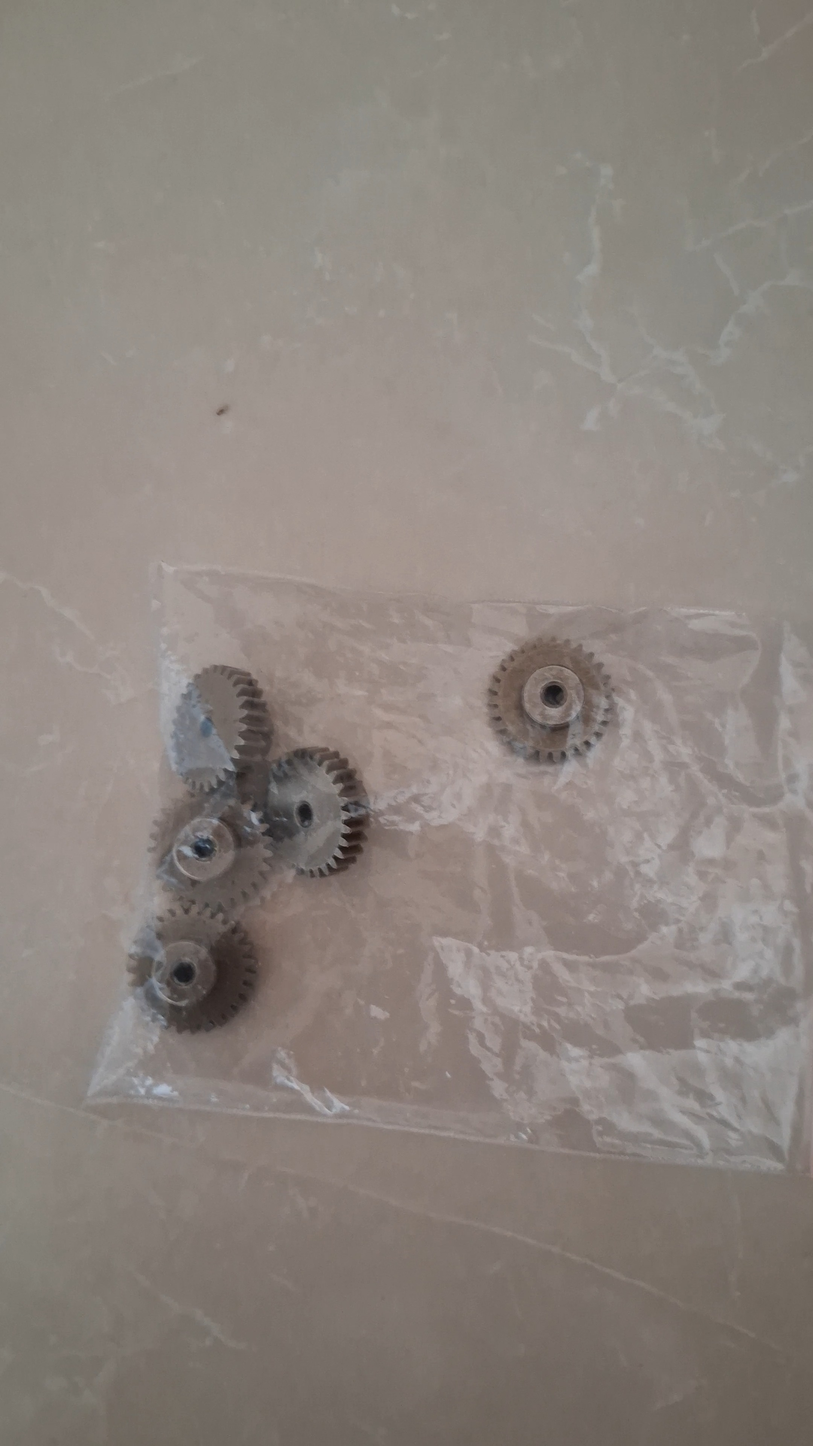spur gear: (128, 904, 257, 1032), (151, 787, 273, 913), (489, 638, 611, 761), (265, 749, 367, 876), (171, 665, 271, 790)
